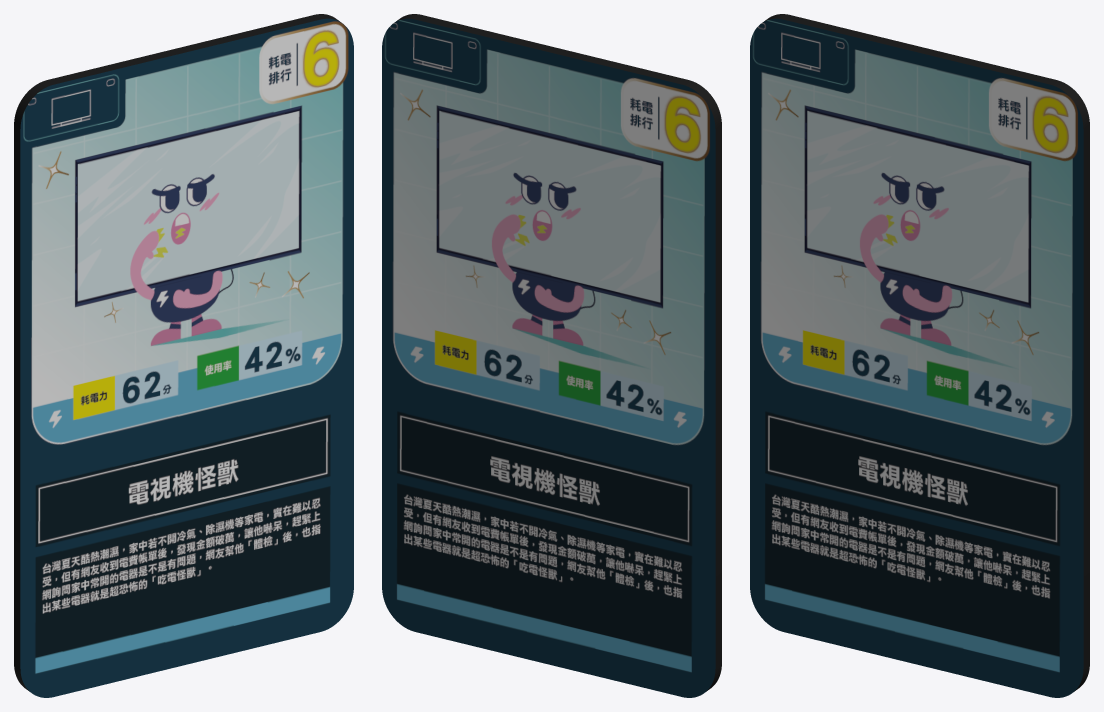
Rendered from CARD.gltf.
3 views of the same model, side by side, from view 1: azimuth 30°, elevation 25°; view 2: azimuth 150°, elevation 25°; view 3: azimuth 330°, elevation 25° (orthographic).
Parts seen in each view (by area): view 1: Rectangle360; view 2: Rectangle360; view 3: Rectangle360.
Boxes of the visible parts, left/top/right/bottom form: Rectangle360: left=14, top=14, right=353, bottom=697; Rectangle360: left=382, top=14, right=721, bottom=697; Rectangle360: left=750, top=14, right=1089, bottom=697.
Bounding box in the file's own units: 1.5 × 2.63 × 0.05.
2 materials, 1 textured.
